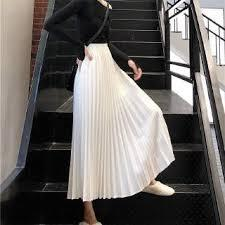skirt: (70, 42, 171, 200)
